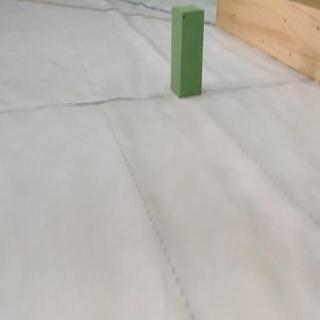greenbox: (169, 3, 205, 97)
